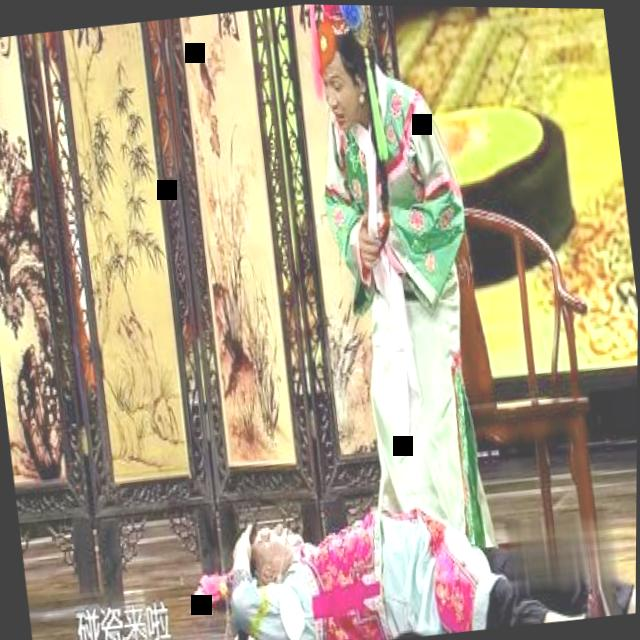Fall-Detected: (196, 456, 637, 640)
